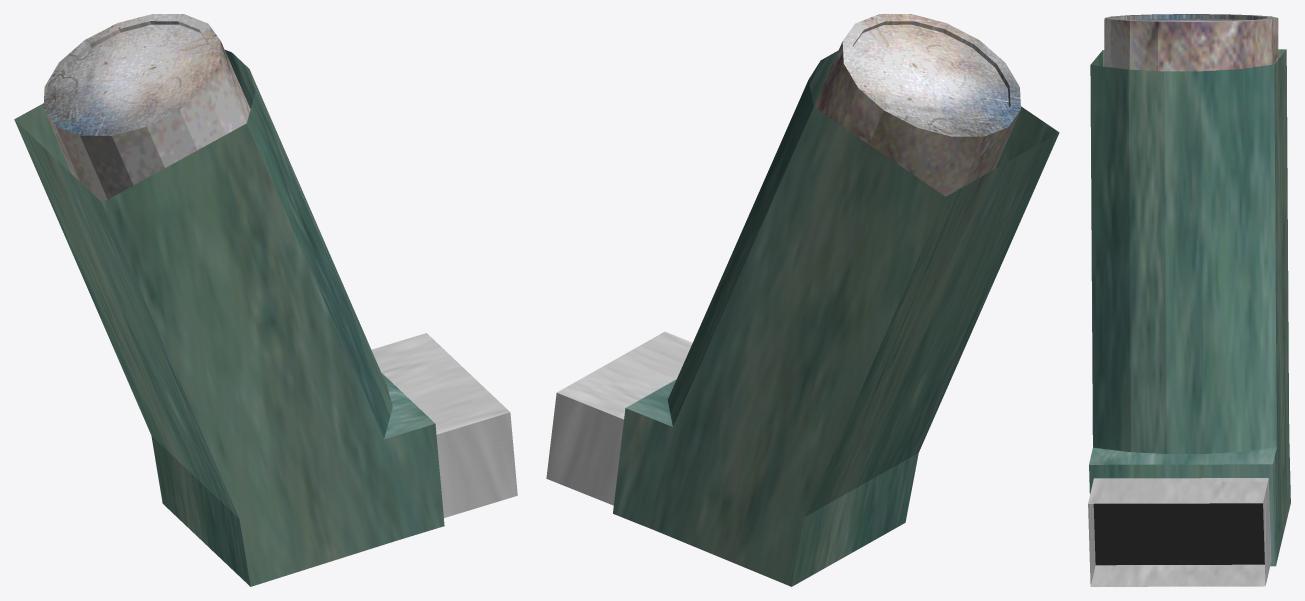
File: inhaler.glb
3 renders of one model, left to right at view 1: azimuth 30°, elevation 25°; view 2: azimuth 150°, elevation 25°; view 3: azimuth 270°, elevation 25°, orthographic. The views are drawn at different scales.
Visible parts, largest first — view 1: Cylinder.001; view 2: Cylinder.001; view 3: Cylinder.001.
Part boxes in pixels (<box>): Cylinder.001: <box>14,14,517,586</box>; Cylinder.001: <box>546,14,1059,586</box>; Cylinder.001: <box>1088,14,1290,586</box>.
Size of the model in its own units: 2.36 by 2.83 by 1.08.
4 materials, 3 textured.
